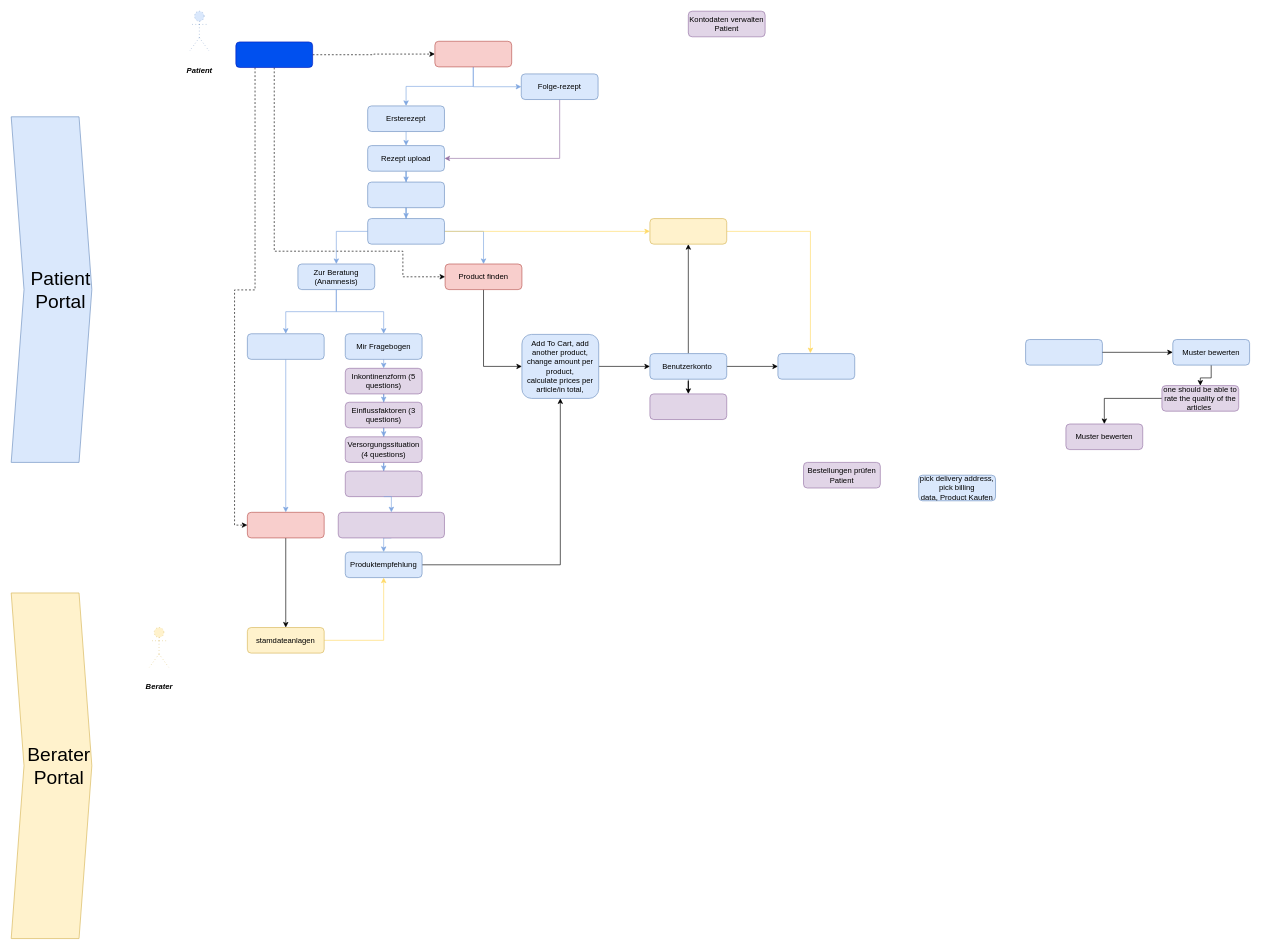
Some shapes in this 1261 by 950 pixel diagram are drawn without their labels. The centre of each missing label's shape, as x and y in pixels:
Benutzerkonto anlegen: (688,406)
Daten Speichern: (405,231)
Homepage Visit: (274,54)
Mit telefonischer Beratung: (285,346)
Muster Bestellen: (816,366)
OCR: (405,194)
Receiver Order: (1063,352)
Rezept einlösen: (473,54)
Rückruf vereinbaren: (285,525)
Segmentierungen werden als Präferenz gespeichert: (391,525)
Versorgungsstatus Patient: (688,231)
Wohlfühlfaktoren: (383,483)
